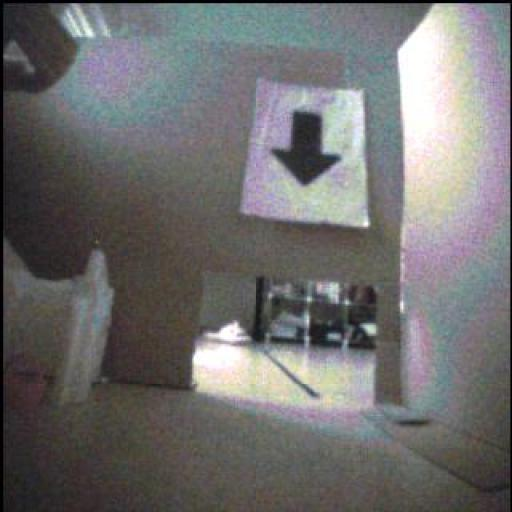arrow: (273, 113, 342, 187)
